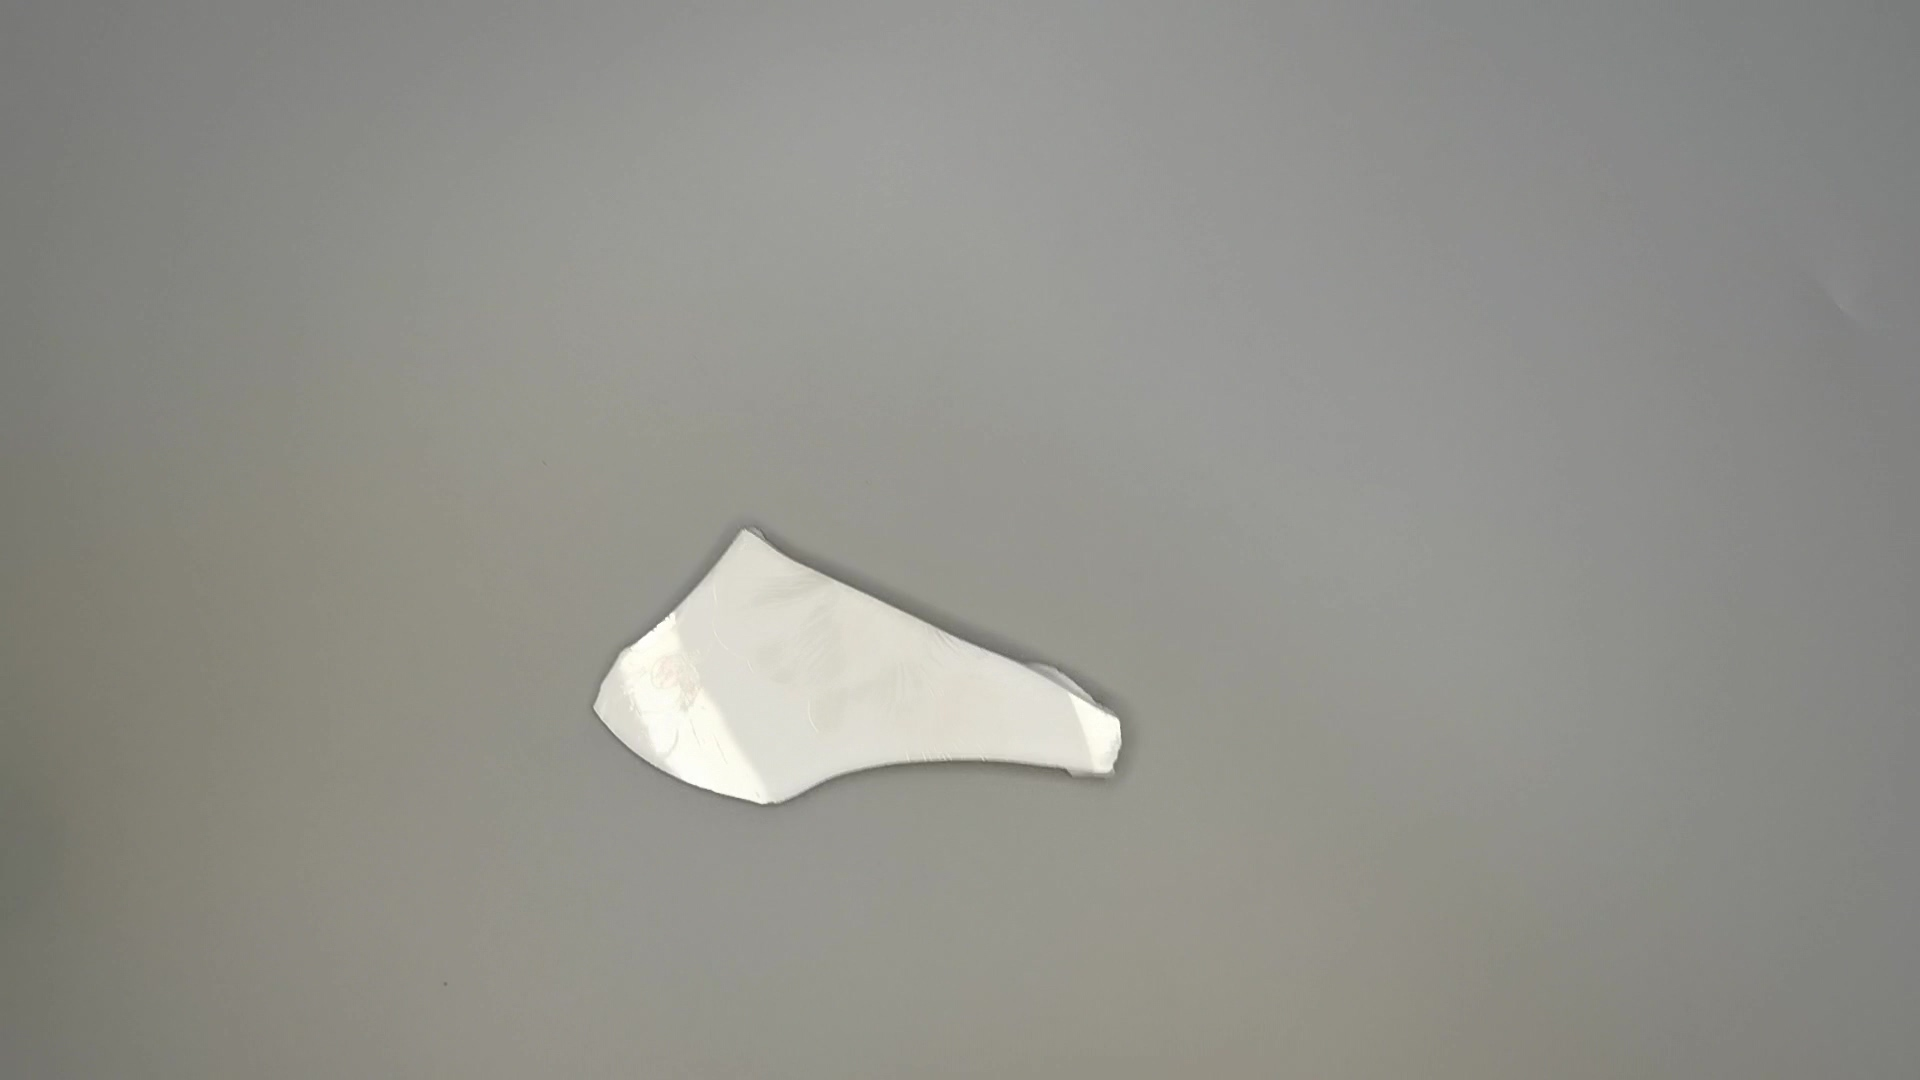ceramic: (582, 520, 1137, 819)
